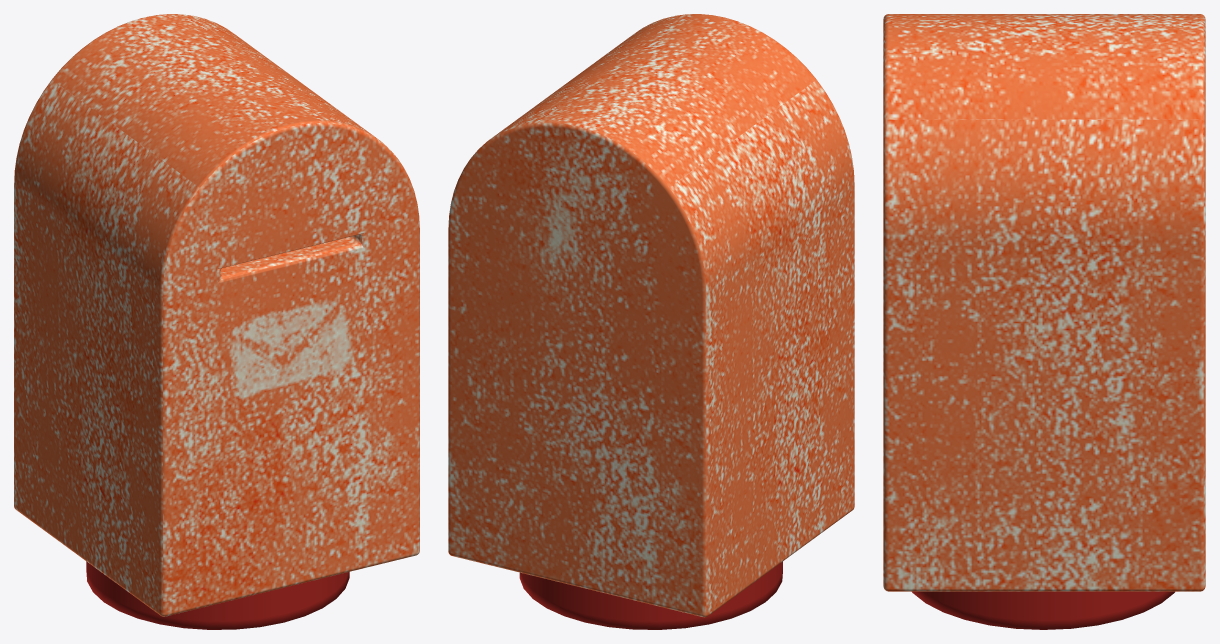
File: postbox4.glb
3 renders of one model, left to right at view 1: azimuth 30°, elevation 25°; view 2: azimuth 150°, elevation 25°; view 3: azimuth 270°, elevation 25°, orthographic. The views are drawn at different scales.
Visible parts, largest first — view 1: Circle, Cylinder.001; view 2: Circle, Cylinder.001; view 3: Circle, Cylinder.001.
Boxes of the visible parts, x1=… form: Circle: x1=14, y1=14, x2=419, y2=616; Cylinder.001: x1=86, y1=561, x2=349, y2=629; Circle: x1=448, y1=14, x2=854, y2=617; Cylinder.001: x1=519, y1=561, x2=782, y2=629; Circle: x1=883, y1=14, x2=1205, y2=591; Cylinder.001: x1=912, y1=591, x2=1174, y2=629.
Bounding box in the file's own units: 30 × 56 × 29.99.
2 materials, 1 textured.
